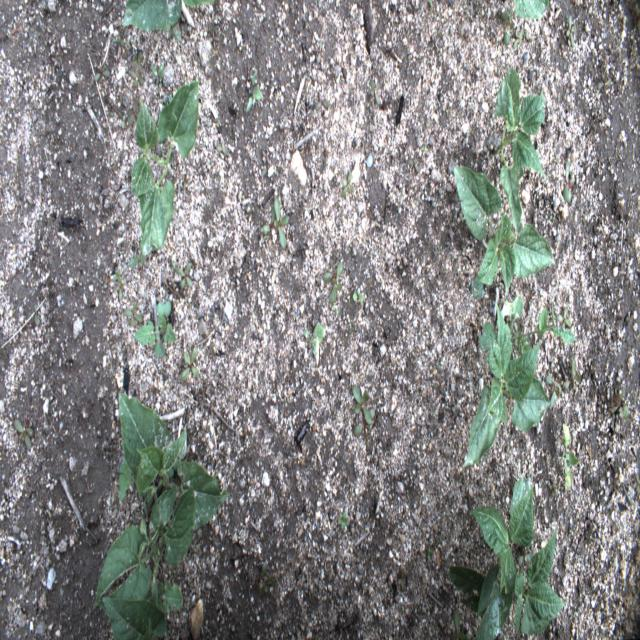crop: (450, 478, 566, 638), (118, 393, 230, 528), (463, 300, 551, 466), (95, 484, 195, 612), (131, 79, 199, 258), (493, 68, 546, 235), (121, 0, 214, 39), (102, 598, 166, 639), (513, 0, 550, 17)
weed: (478, 292, 576, 365), (134, 301, 176, 357), (352, 385, 376, 448), (262, 196, 289, 250), (144, 579, 185, 613), (562, 420, 581, 490), (322, 261, 344, 303), (246, 68, 263, 115), (610, 382, 629, 421), (560, 359, 581, 391), (180, 351, 200, 384), (260, 560, 276, 599), (172, 261, 193, 290), (304, 324, 323, 356), (14, 420, 34, 449), (117, 463, 132, 499), (128, 241, 148, 268), (500, 4, 513, 45), (454, 608, 471, 638), (124, 302, 144, 327), (563, 159, 574, 203), (546, 375, 560, 409), (341, 172, 355, 200), (566, 13, 576, 50), (216, 133, 230, 159), (557, 307, 571, 333), (113, 268, 123, 302), (126, 98, 137, 128), (152, 64, 164, 90), (93, 65, 111, 82), (129, 69, 146, 87), (338, 510, 350, 532), (370, 80, 380, 105), (112, 39, 124, 59), (596, 73, 612, 88), (518, 552, 535, 566), (407, 156, 420, 174), (514, 26, 524, 49), (352, 287, 365, 304), (132, 52, 144, 69), (209, 30, 220, 48), (316, 98, 329, 111), (550, 480, 558, 499), (34, 302, 39, 326), (317, 40, 322, 63), (426, 545, 432, 564), (436, 360, 441, 370)
